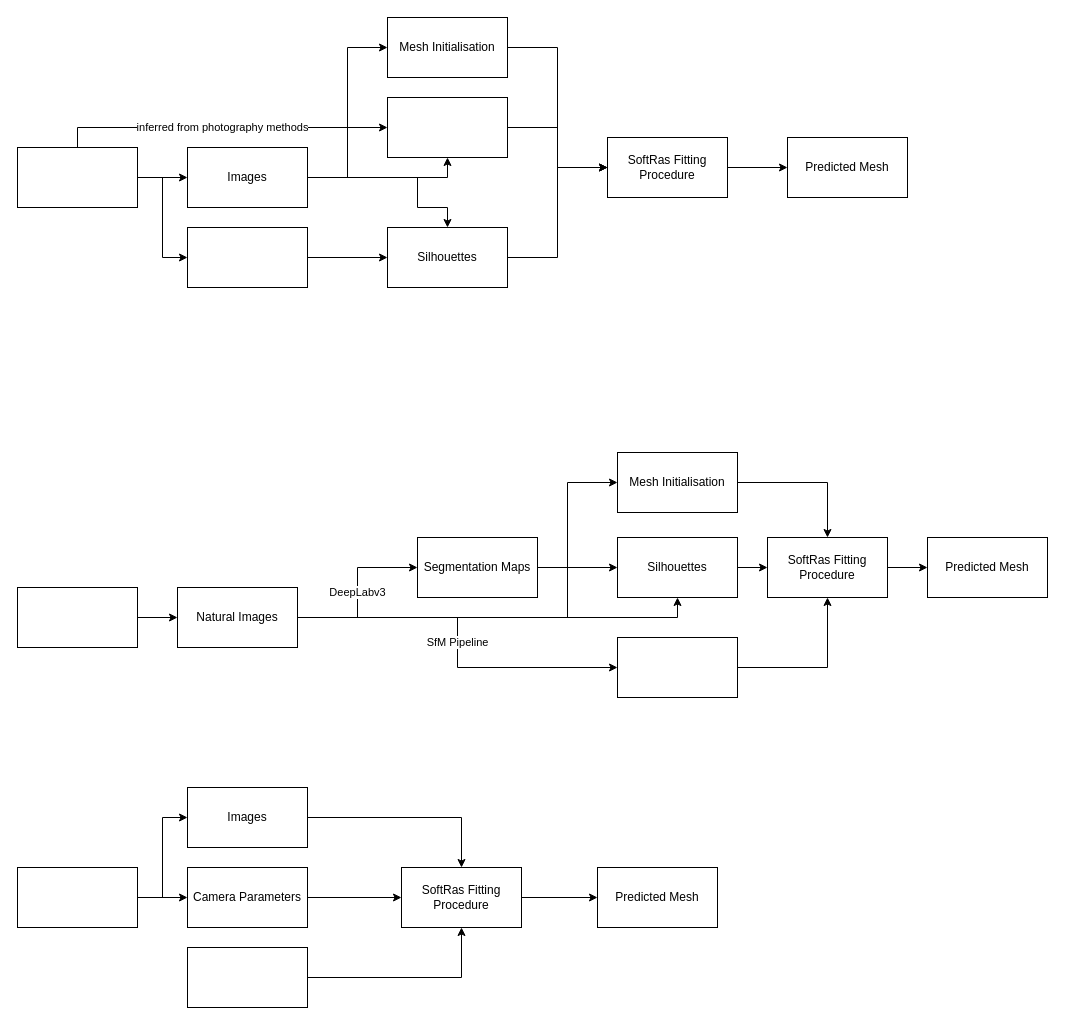
Some shapes in this 1065 by 1025 pixel diagram are drawn without their labels. Here are the shapes that lost their labels. From the top down, the box of each, then its label:
(386, 96, 508, 158): Camera Params
(16, 146, 138, 208): ALOI
(186, 226, 308, 288): Masks
(16, 586, 138, 648): Manual Image Capture
(616, 636, 738, 698): Camera Parameter Estimates
(16, 866, 138, 928): ShapeNet
(186, 946, 308, 1008): Default Sphere
